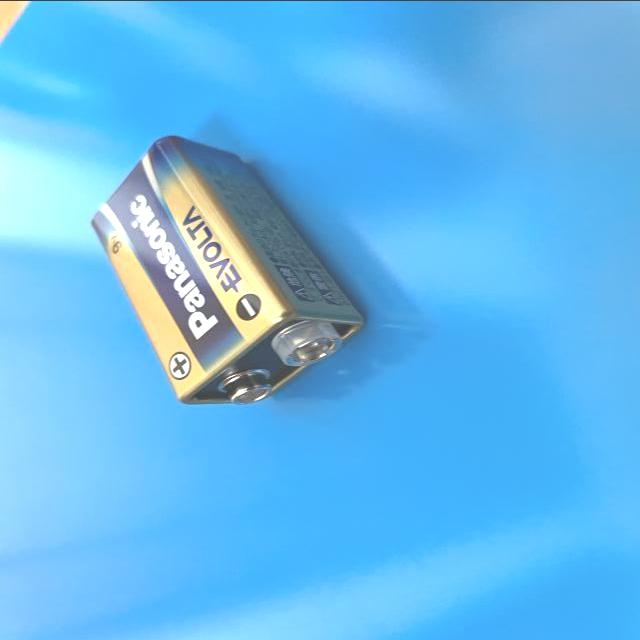9V: (87, 134, 365, 405)
